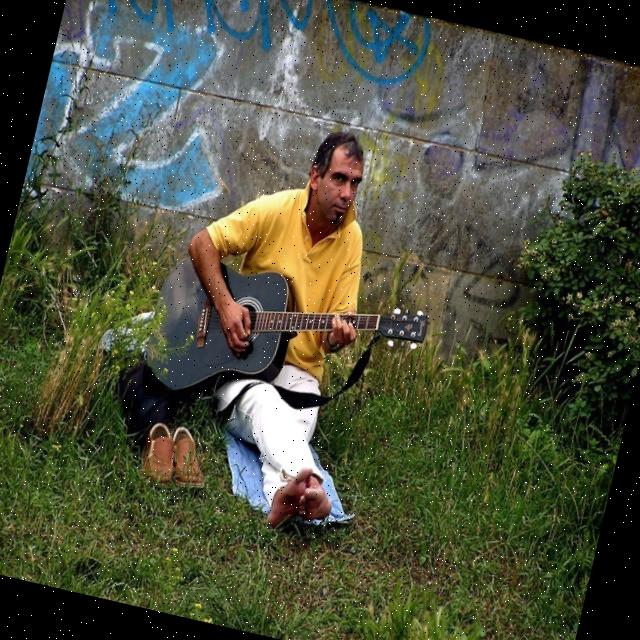guitar: (134, 239, 435, 450)
